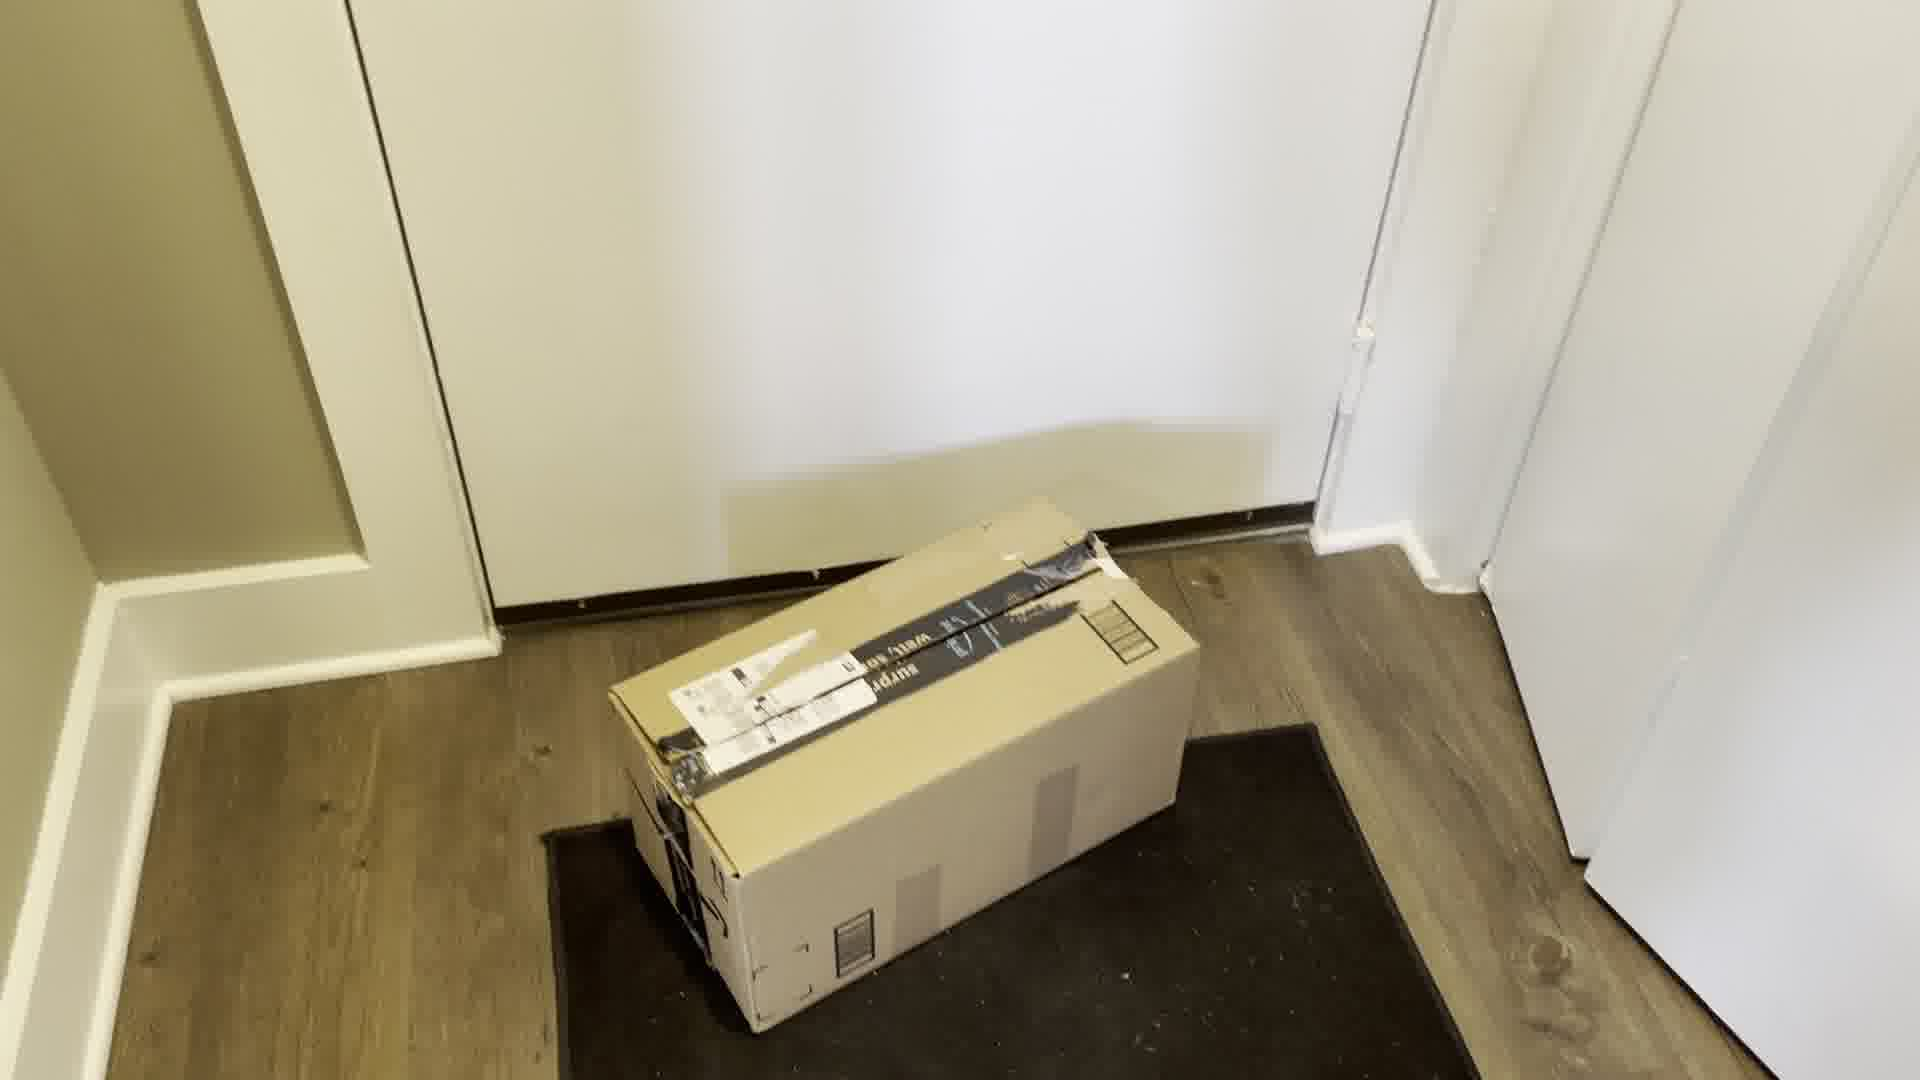box: (605, 485, 1215, 1015)
